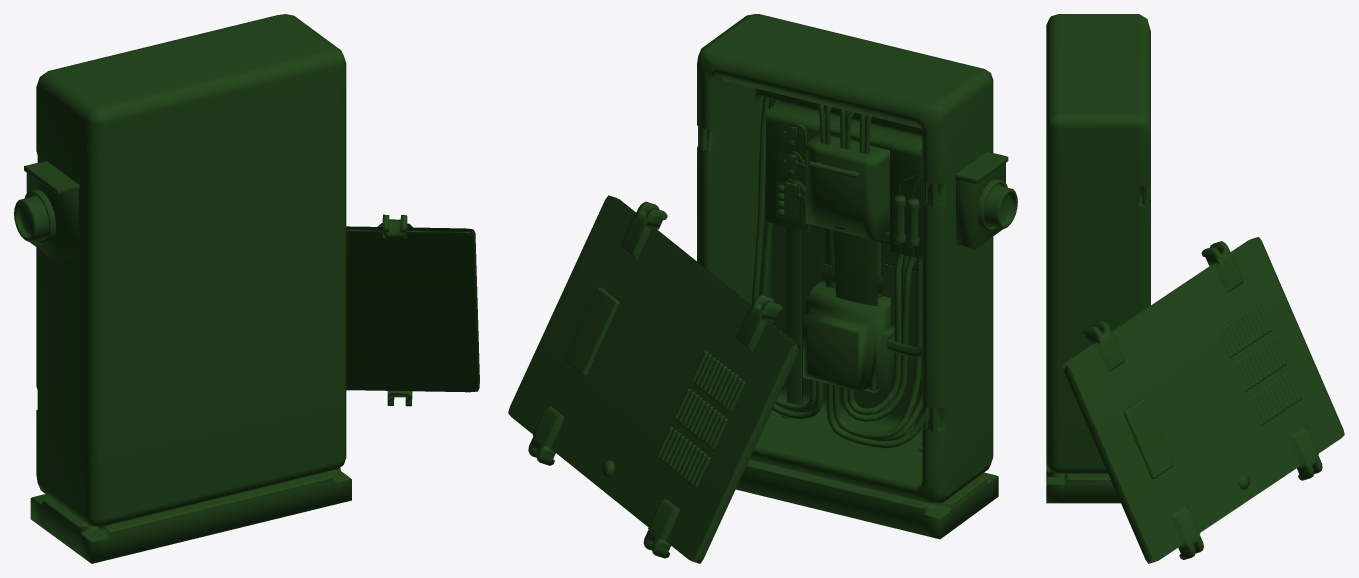
3 renders of one model, left to right at view 1: azimuth 30°, elevation 25°; view 2: azimuth 150°, elevation 25°; view 3: azimuth 270°, elevation 25°, orthographic. The views are drawn at different scales.
Parts seen in each view (by area): view 1: polySurface174; view 2: polySurface174; view 3: polySurface174.
Part boxes in pixels (bbox=[...]): polySurface174: bbox=[14, 14, 479, 563]; polySurface174: bbox=[508, 14, 1017, 563]; polySurface174: bbox=[1046, 14, 1344, 563].
Size of the model in its own units: 2 by 1.76 by 1.24.
